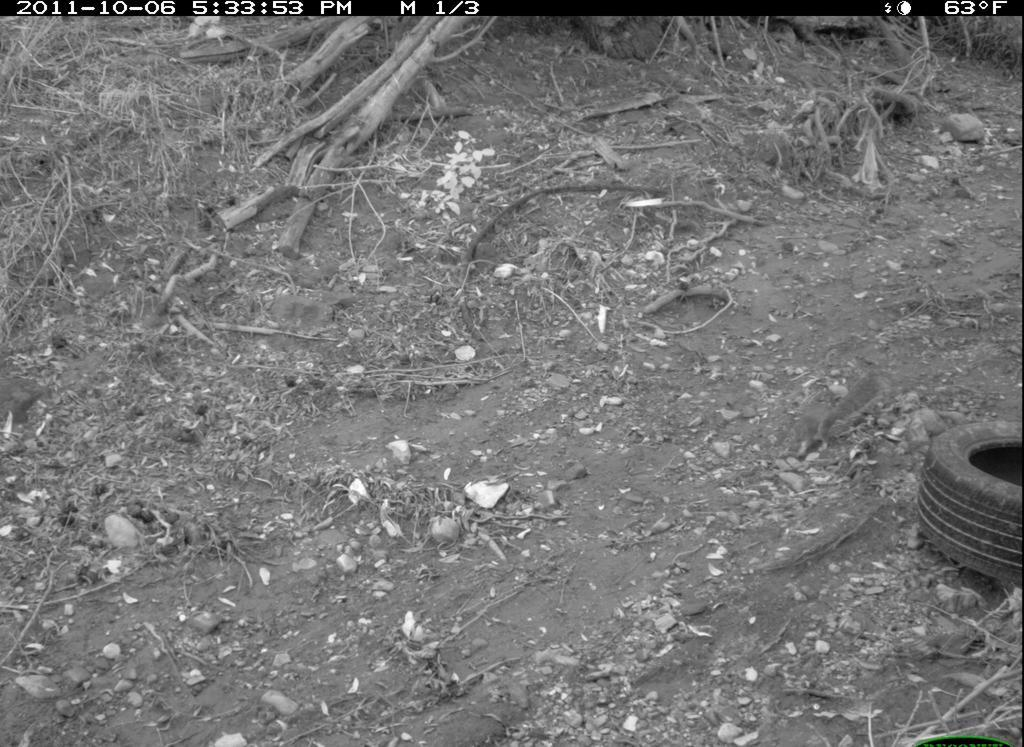squirrel: (782, 369, 888, 466)
